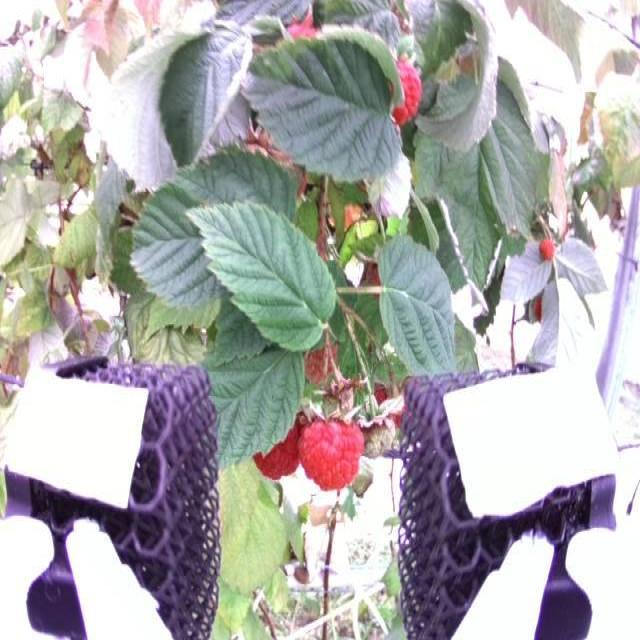Riped berries: (300, 402, 367, 491), (253, 399, 301, 476), (381, 52, 422, 120)
